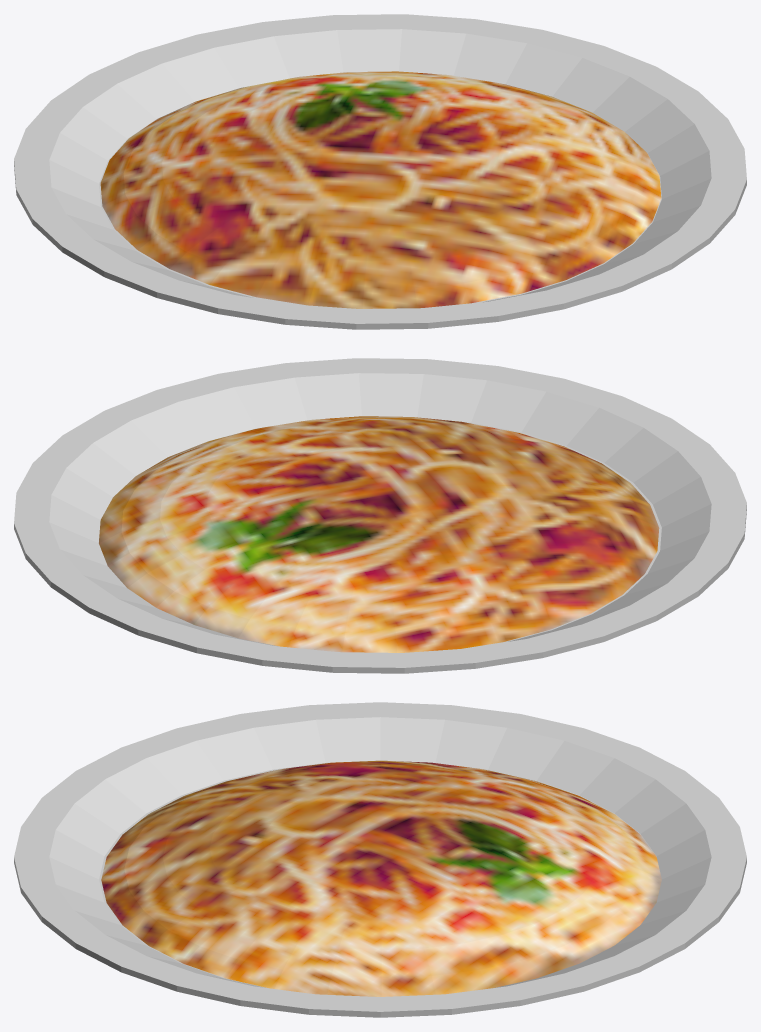
Rendered from spaghetti-bolognese.glb.
The picture shows the model from 3 angles, top to bottom: view 1: azimuth 30°, elevation 25°; view 2: azimuth 150°, elevation 25°; view 3: azimuth 270°, elevation 25°; orthographic projection.
Visible parts, largest first — view 1: Cylinder, Sphere; view 2: Cylinder, Sphere; view 3: Cylinder, Sphere.
Part boxes in pixels (left/top/right/bottom): Cylinder: left=100, top=71, right=661, bottom=308; Sphere: left=14, top=14, right=746, bottom=329; Cylinder: left=99, top=416, right=659, bottom=652; Sphere: left=14, top=358, right=746, bottom=673; Cylinder: left=101, top=760, right=661, bottom=996; Sphere: left=14, top=702, right=746, bottom=1017.
Bounding box in the file's own units: 5.52 × 0.409 × 5.52.
Materials: 2 (1 with a texture image).
